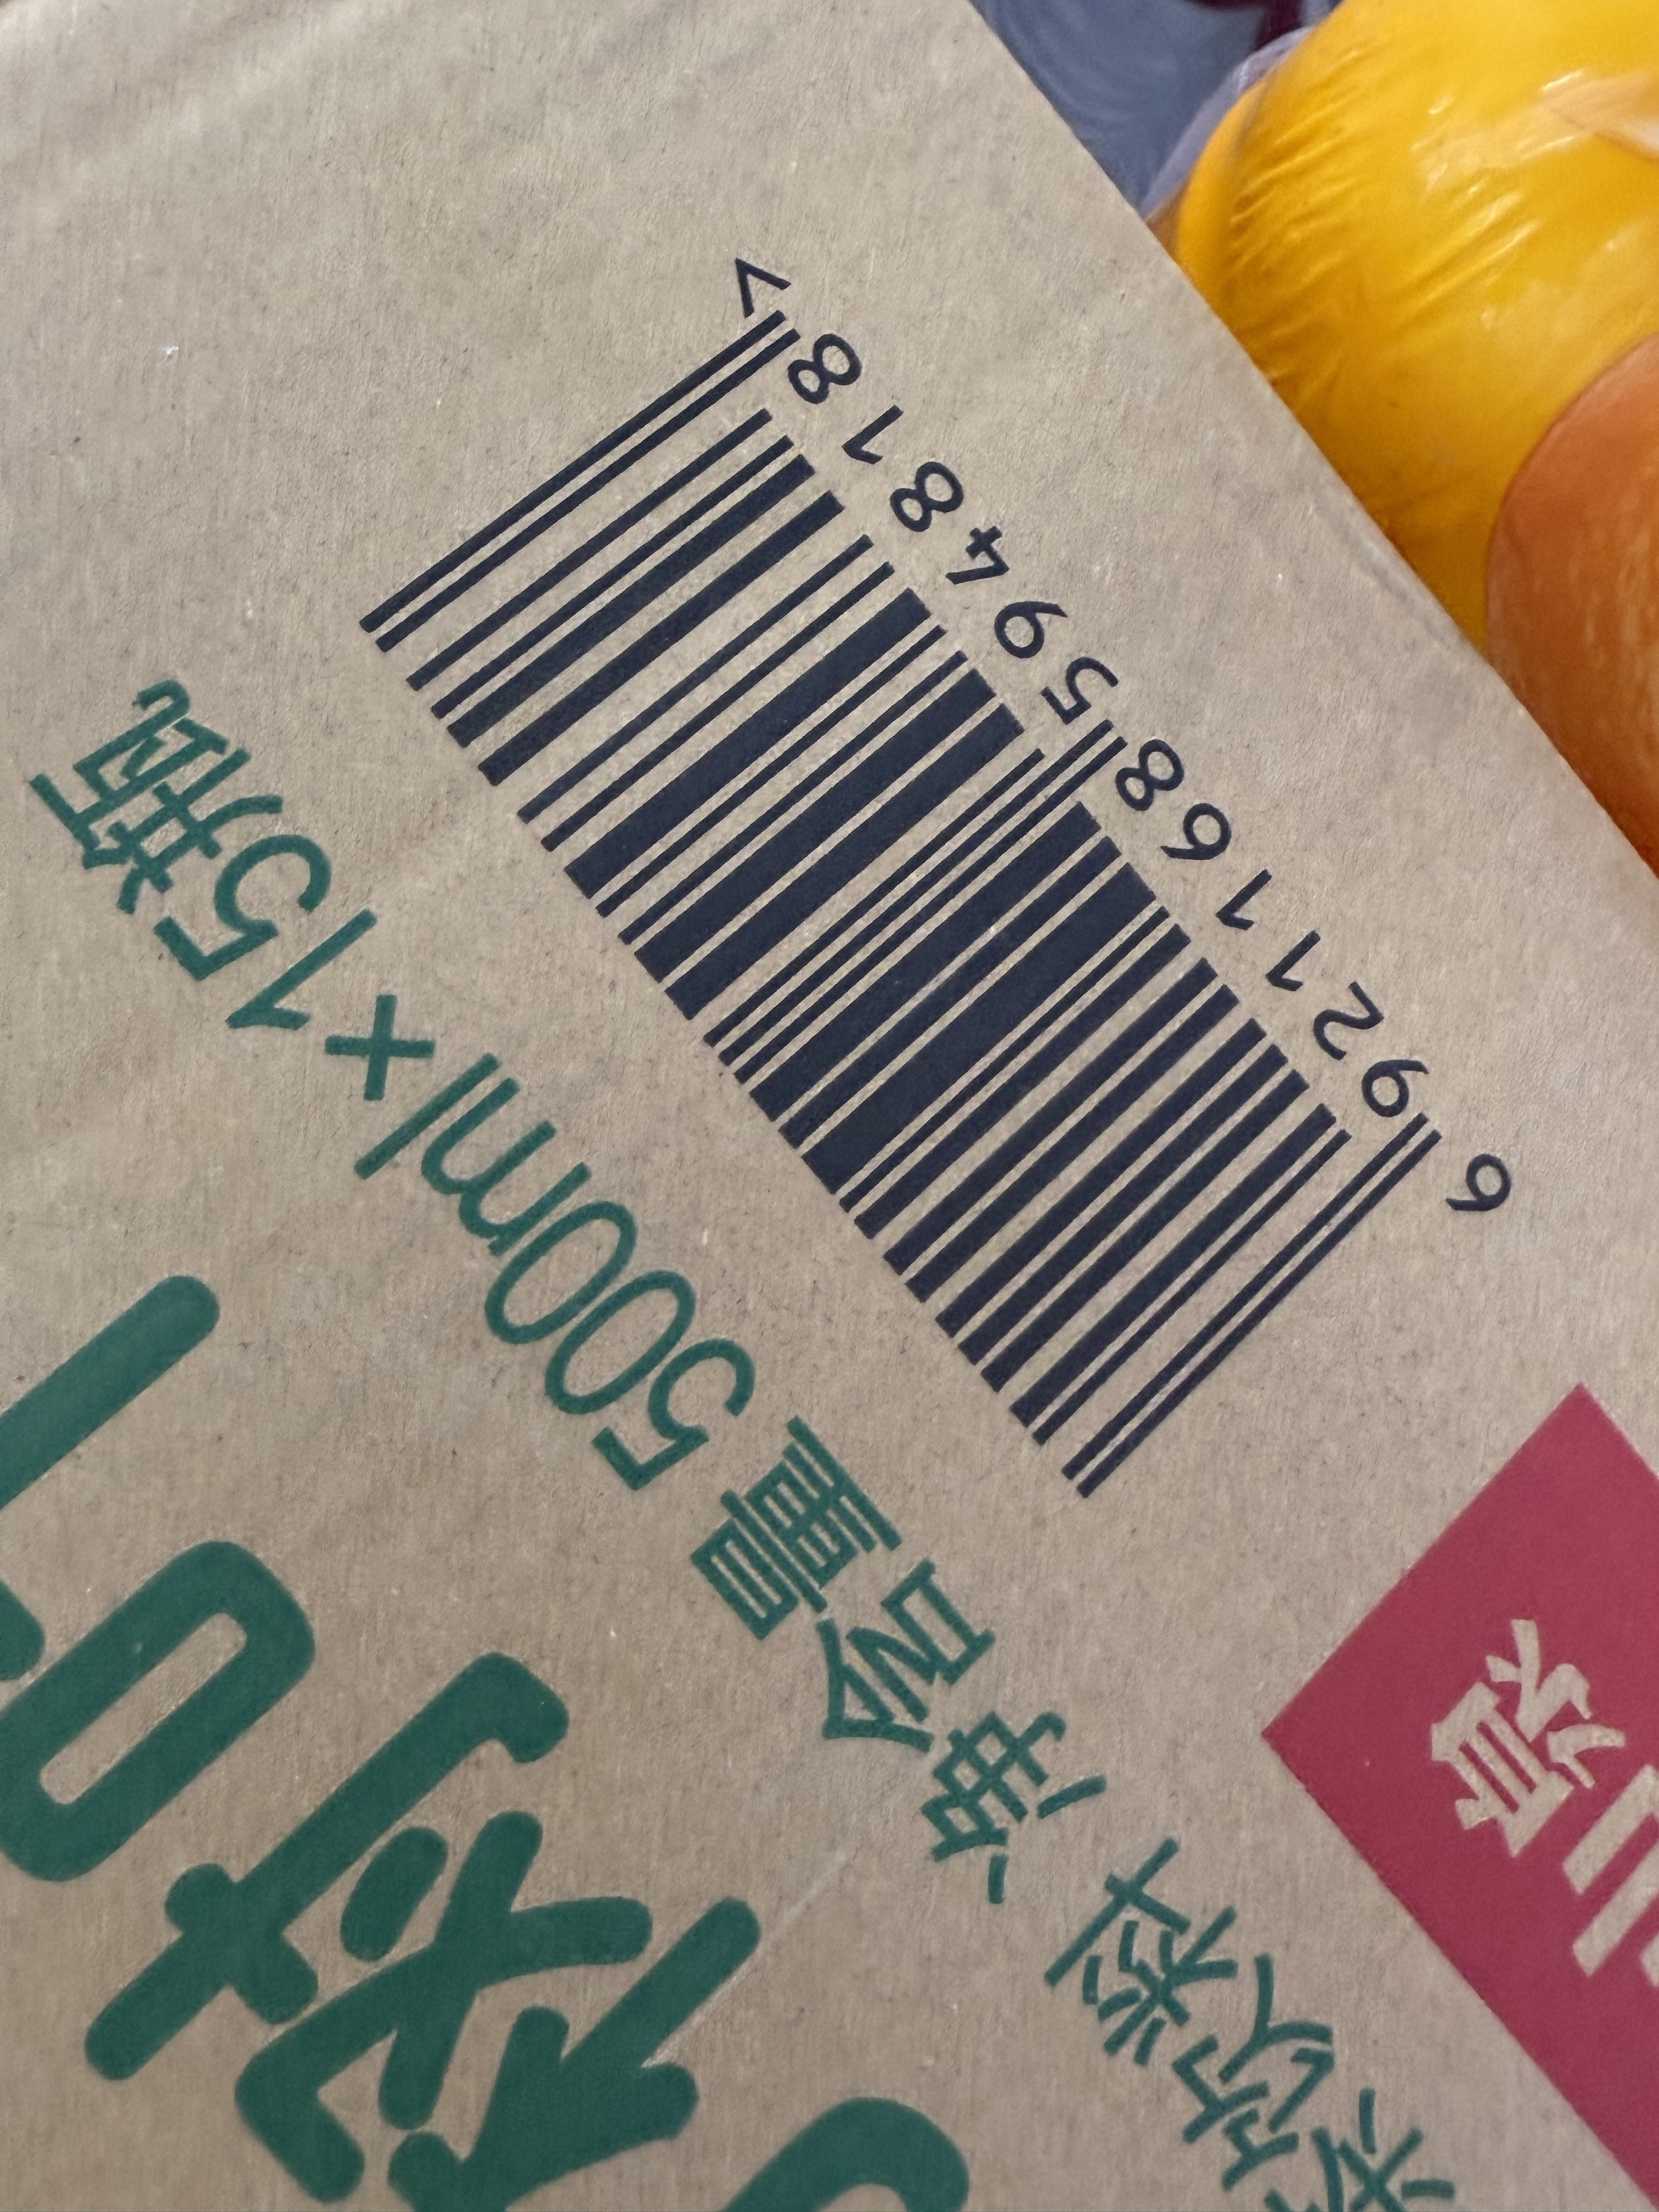bar: (345, 298, 1450, 1512)
